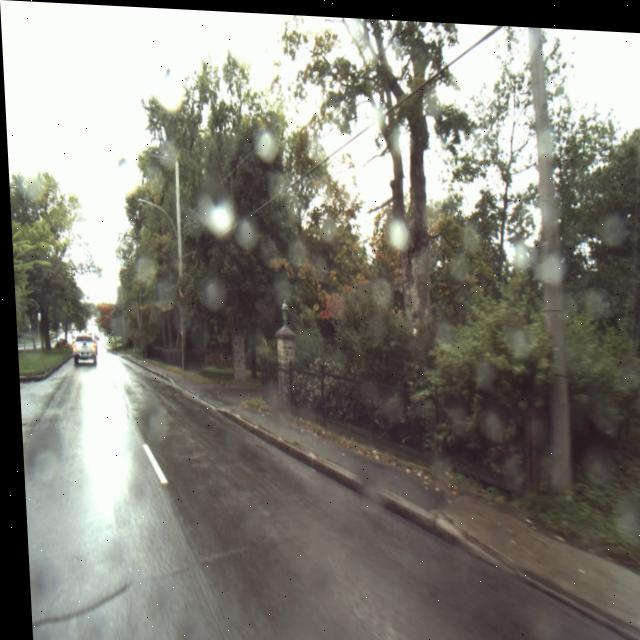car: (69, 335, 94, 369)
